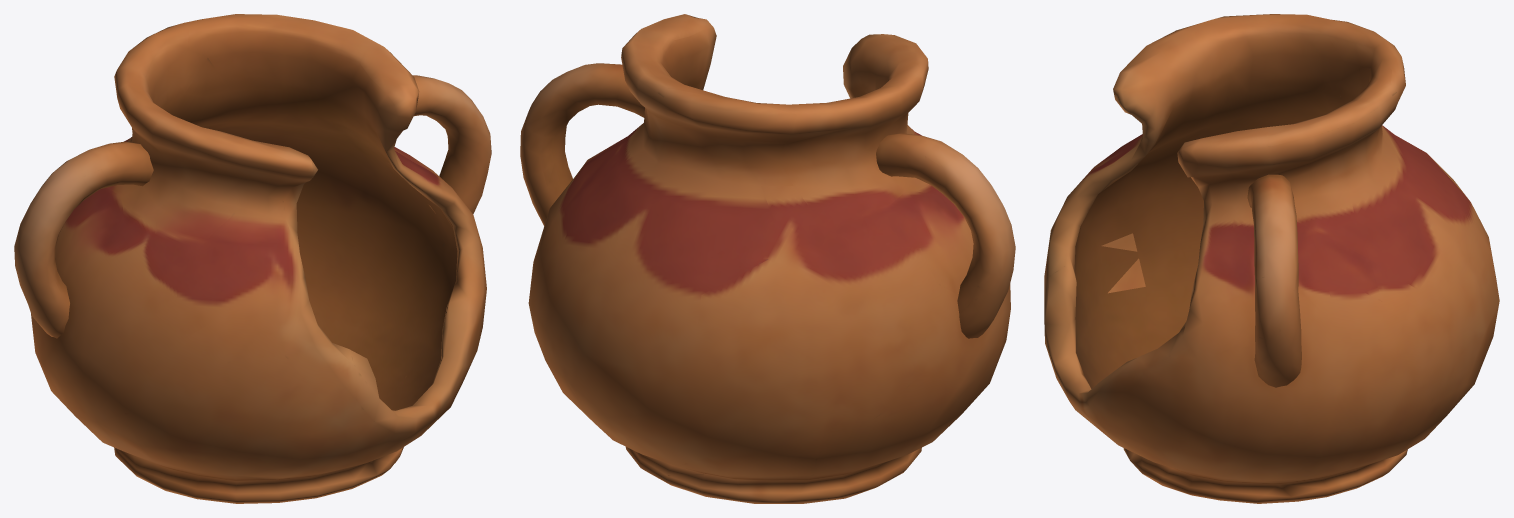
The model's file is anfora_asas_b.glb.
3 renders of one model, left to right at view 1: azimuth 30°, elevation 25°; view 2: azimuth 150°, elevation 25°; view 3: azimuth 270°, elevation 25°, orthographic. The views are drawn at different scales.
Parts seen in each view (by area): view 1: anfora_asas_b; view 2: anfora_asas_b; view 3: anfora_asas_b.
Part boxes in pixels (bbox=[...]): anfora_asas_b: bbox=[14, 14, 491, 503]; anfora_asas_b: bbox=[520, 14, 1015, 503]; anfora_asas_b: bbox=[1044, 14, 1499, 503].
Size of the model in its own units: 0.2752 by 0.2159 by 0.2312.
1 material, 1 textured.
